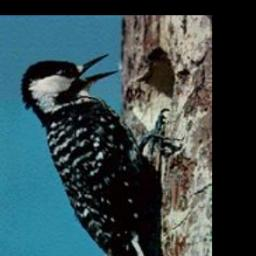Woodpecker: (13, 48, 184, 256)
